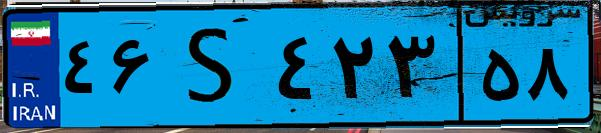2: (330, 28, 385, 110)
3: (385, 28, 445, 110)
4: (270, 28, 330, 110), (57, 26, 110, 100)
5: (475, 38, 525, 113)
6: (110, 28, 158, 98)
8: (525, 38, 570, 115)
S: (158, 12, 270, 120)
